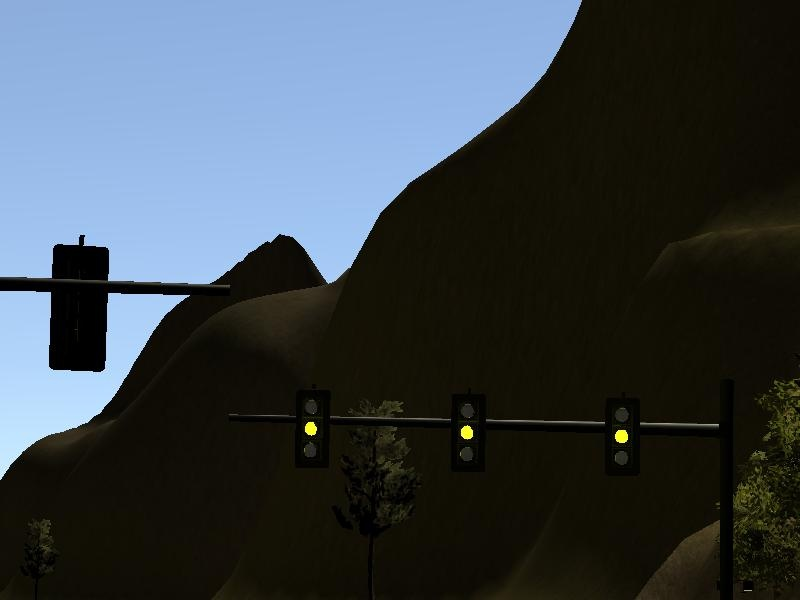yellow: (605, 399, 642, 477), (452, 395, 486, 476), (296, 391, 331, 469)
